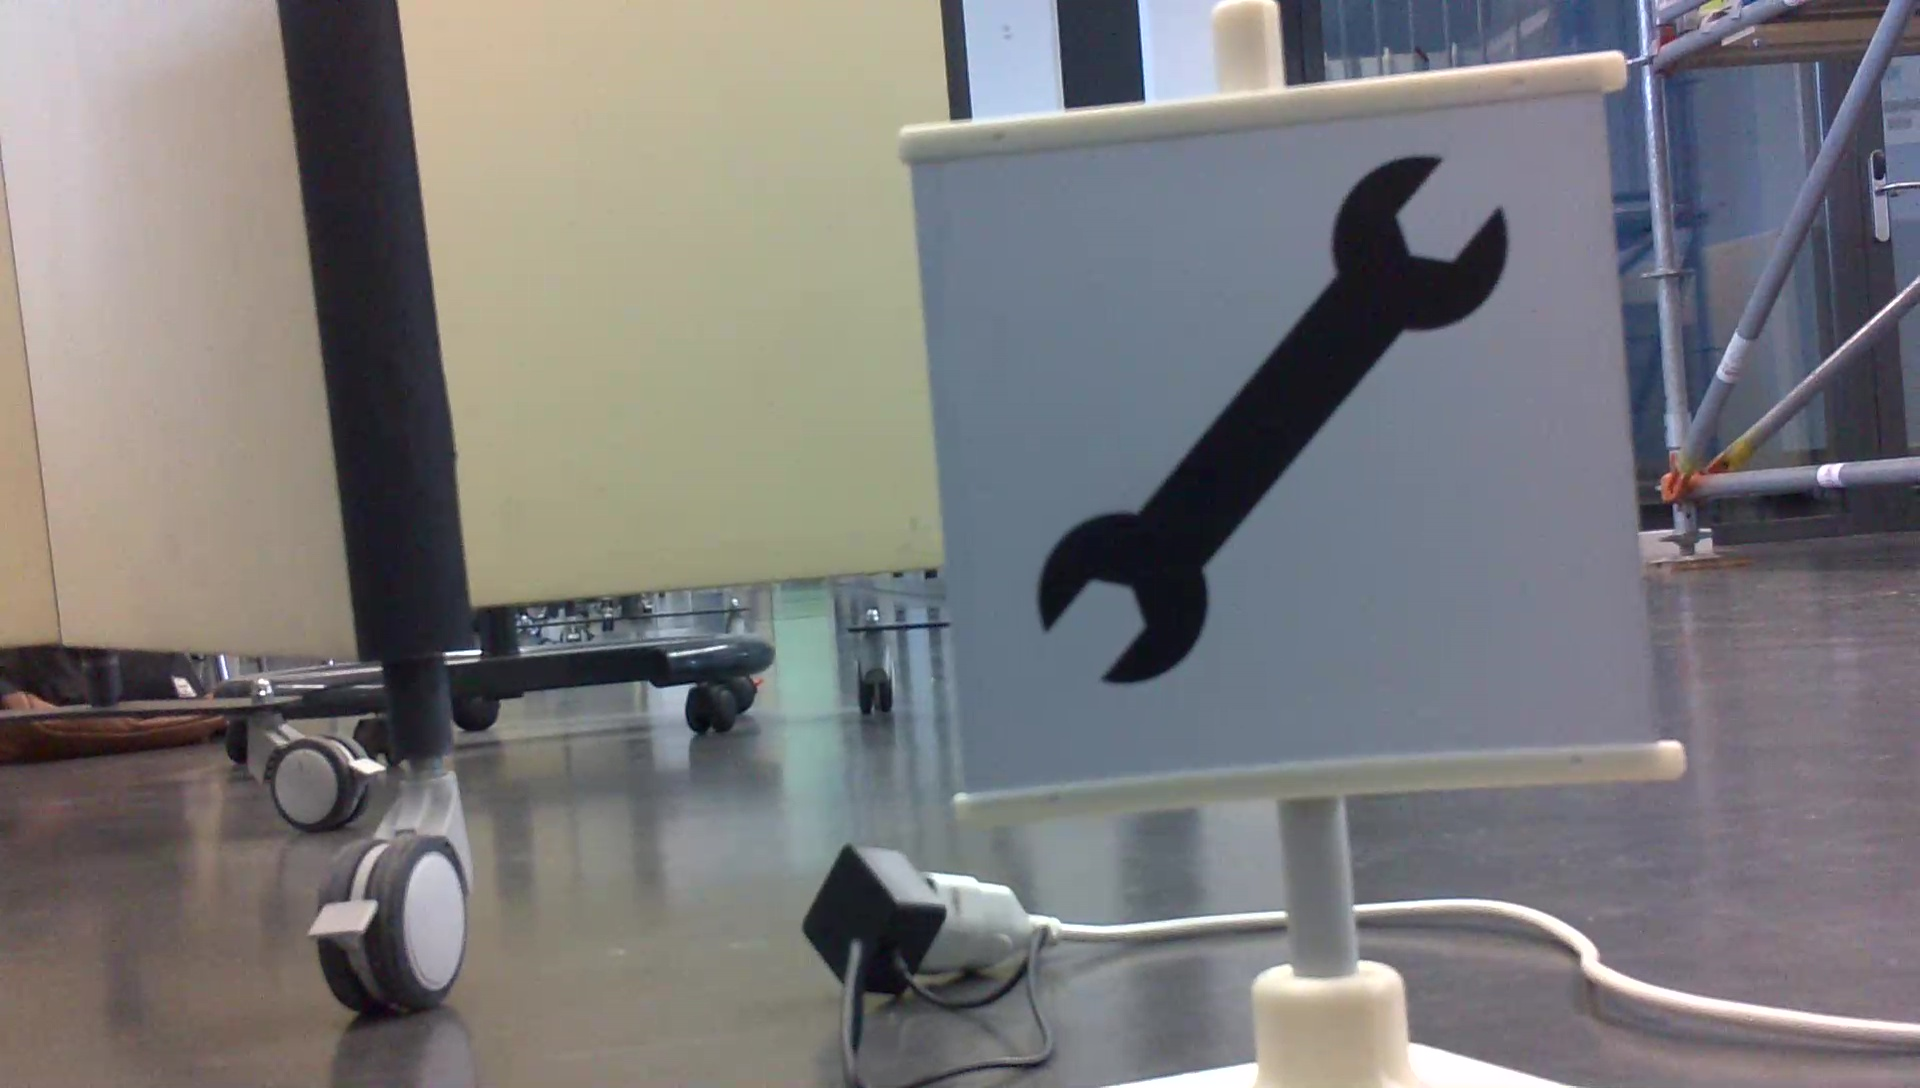wrench: (1025, 145, 1519, 692)
